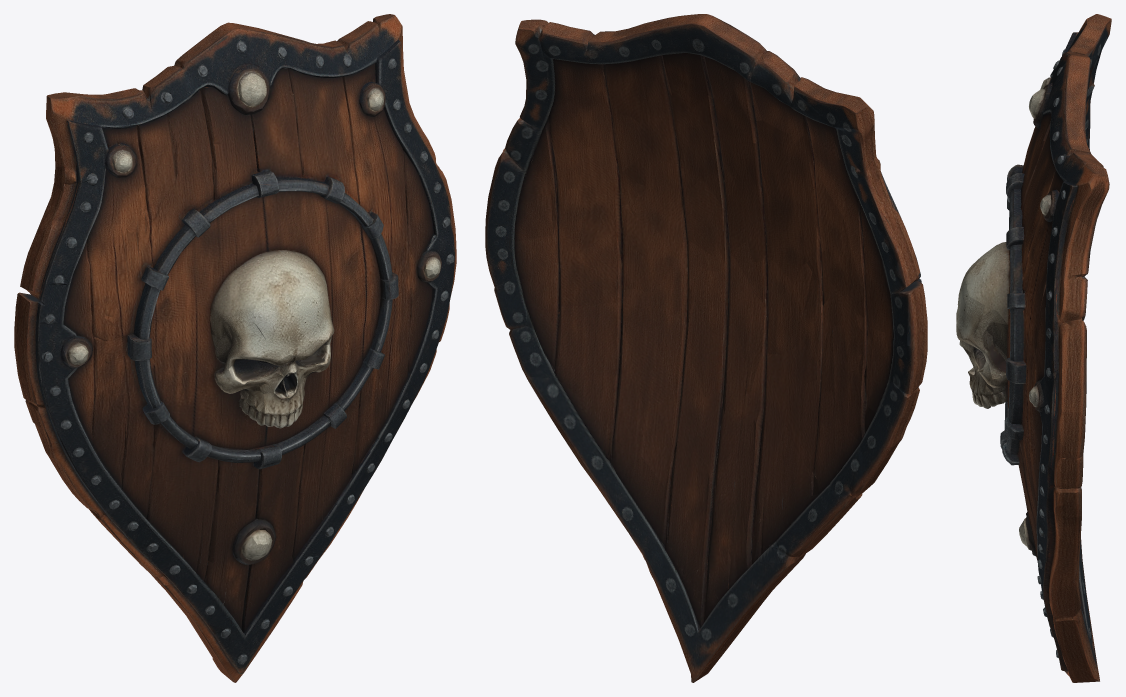
File: Meshy_AI_Weapon_skeleton_shield_01a0e88a_texture.glb
3 renders of one model, left to right at view 1: azimuth 30°, elevation 25°; view 2: azimuth 150°, elevation 25°; view 3: azimuth 270°, elevation 25°, orthographic. The views are drawn at different scales.
Bounding box in the file's own units: 1.31 × 1.9 × 0.4287.
Materials: 1 (1 with a texture image).
